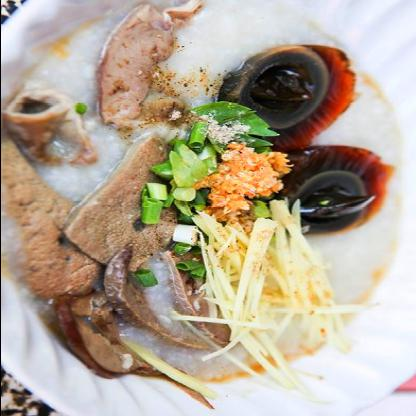Joke: (1, 1, 400, 400)
